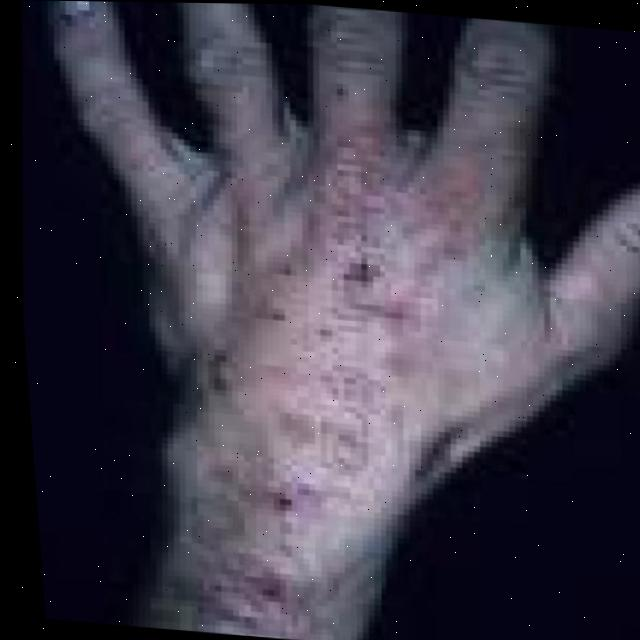Melasma: (168, 448, 347, 640), (245, 194, 437, 333)
